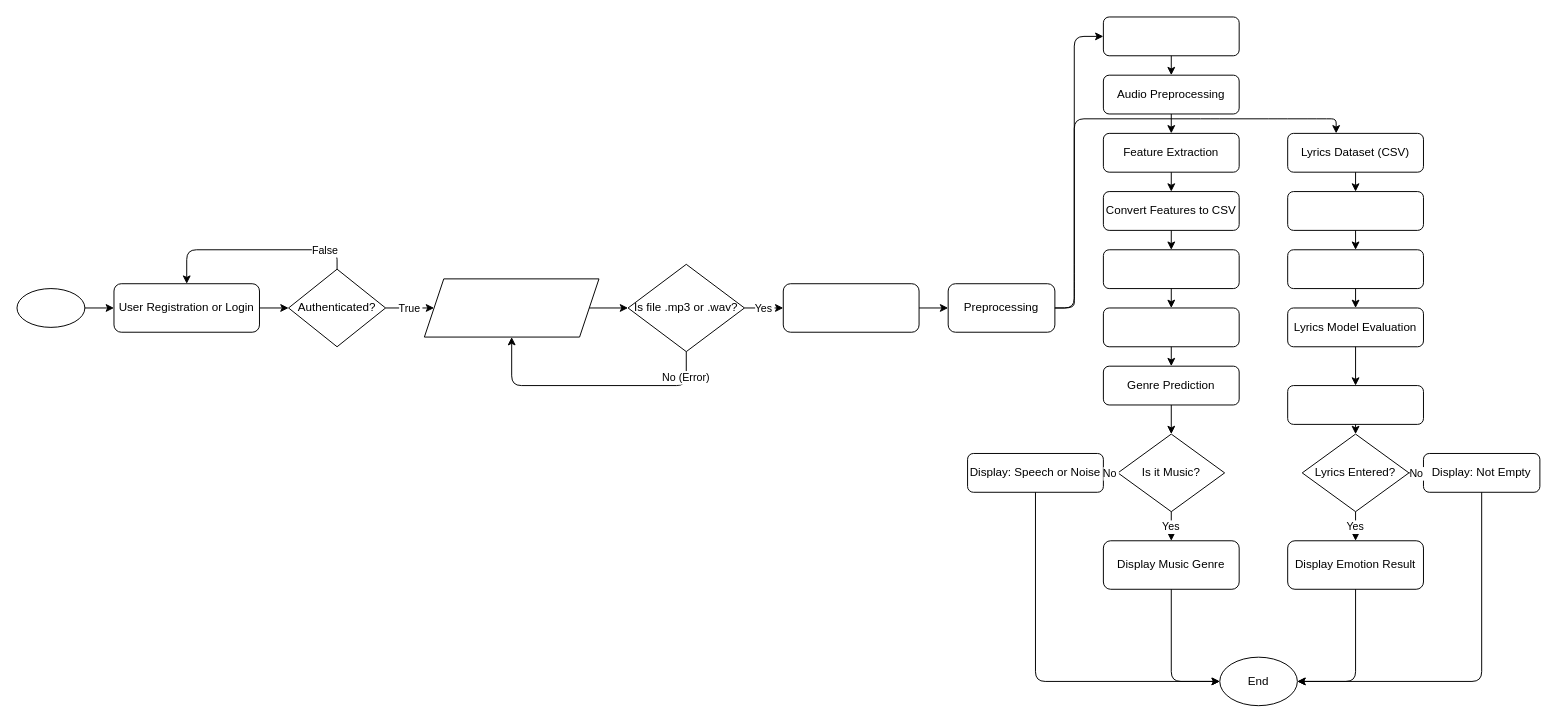
The diagram is 1557 pixels wide and 723 high, and some of its shapes have lost their labels. The shapes that lost their labels are listed below. From the top down, each one's box as (x1, y1, x2, y2) in pixels, then its label:
(1102, 16, 1239, 56): Audio Dataset
(1287, 191, 1423, 230): Lyrics Preprocessing
(1102, 249, 1239, 289): Genre Model Training
(1287, 249, 1423, 289): Lyrics Model Training
(16, 288, 85, 327): Start
(423, 278, 599, 337): User Uploads Song & Lyrics
(782, 283, 919, 332): Backend Receives Input
(1102, 307, 1239, 347): Genre Model Evaluation
(1287, 385, 1423, 424): Lyrics Emotion Prediction
